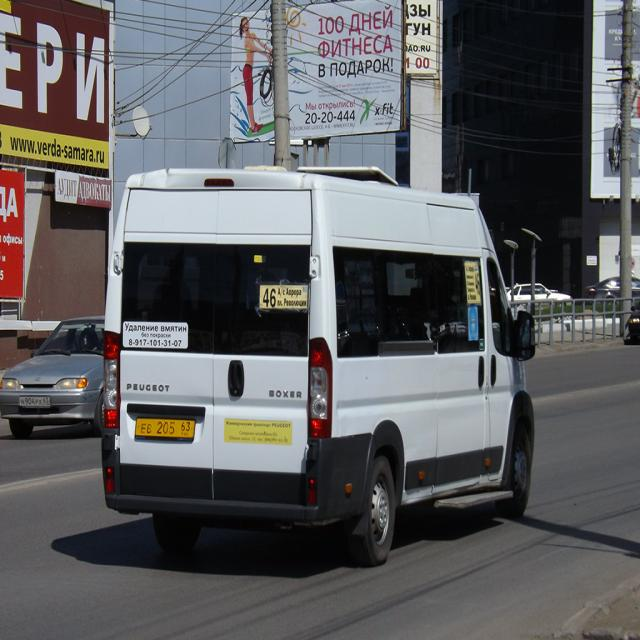number-of-bus: (262, 287, 278, 310)
